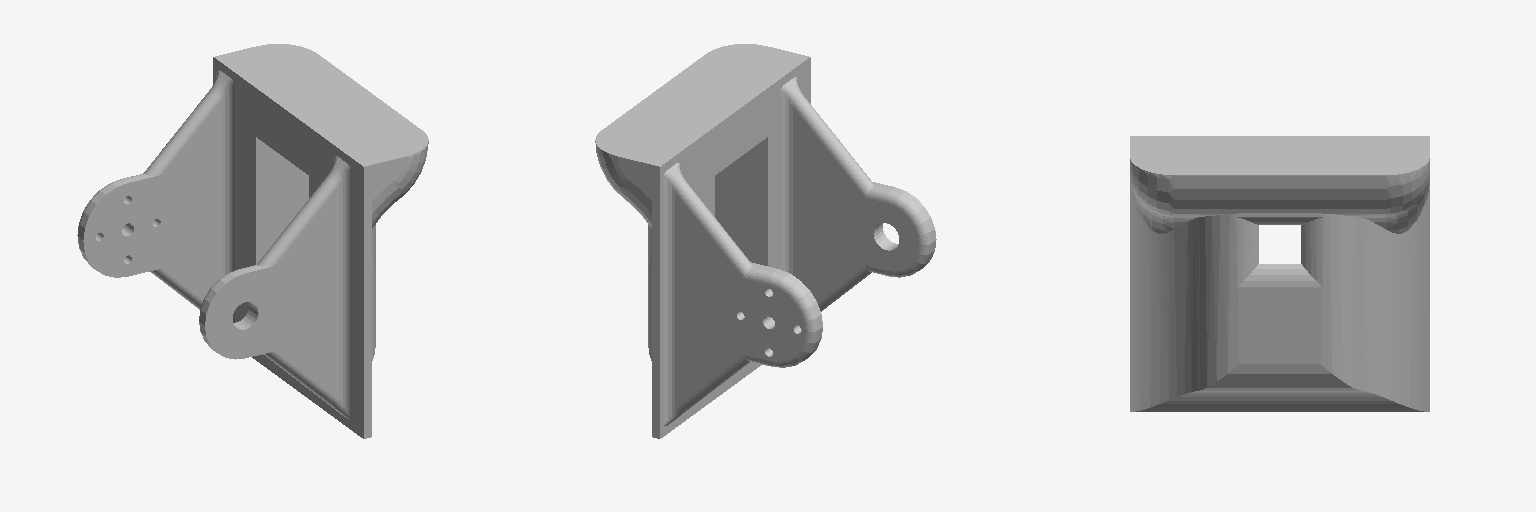
The model's file is camera.obj.
The picture shows the model from 3 angles: view 1: azimuth 30°, elevation 25°; view 2: azimuth 150°, elevation 25°; view 3: azimuth 270°, elevation 25°; orthographic projection.
Visible parts, largest first — view 1: camera; view 2: camera; view 3: camera.
Boxes of the visible parts, box(x1,y1,x2,y2) form: camera: box(77, 44, 428, 438); camera: box(595, 44, 936, 438); camera: box(1130, 136, 1429, 411).
Bounding box in the file's own units: 0.056 × 0.064 × 0.064.